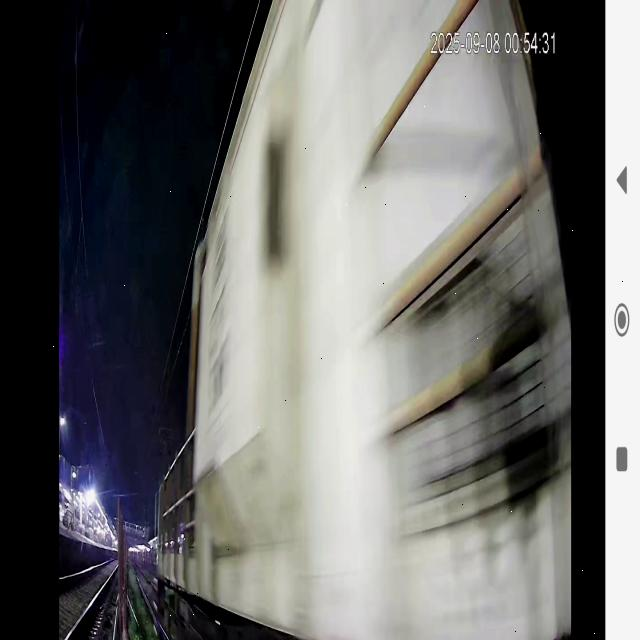brakevan: (127, 0, 566, 640)
